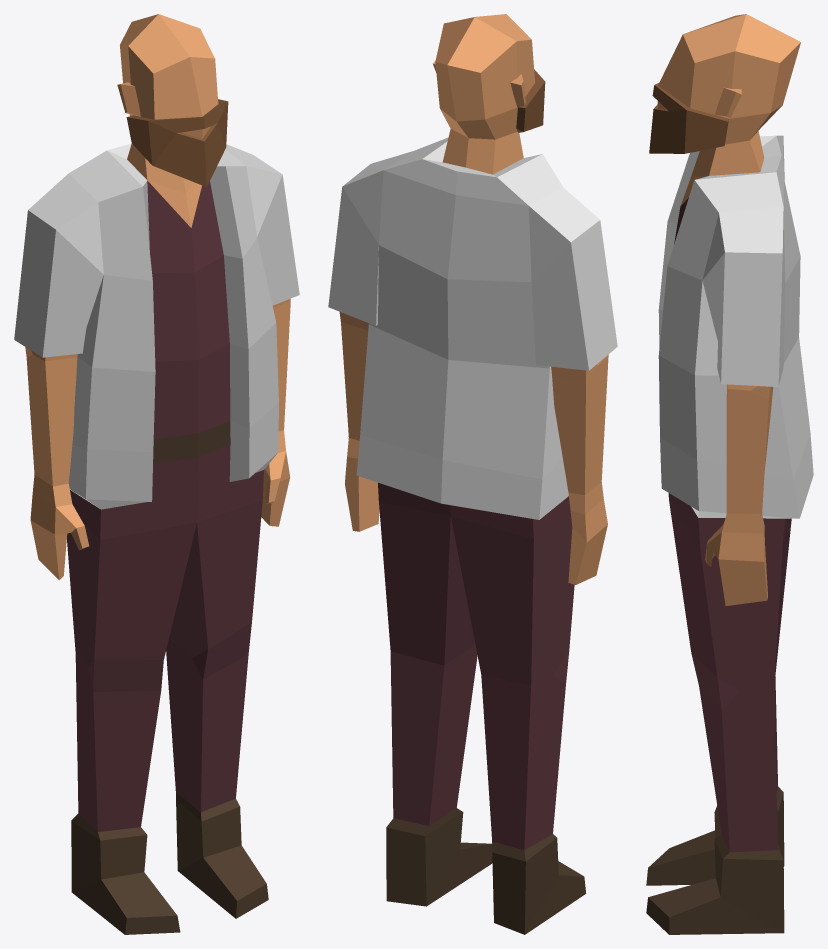
File: man-pedestrian-rival.fbx
3 renders of one model, left to right at view 1: azimuth 30°, elevation 25°; view 2: azimuth 150°, elevation 25°; view 3: azimuth 270°, elevation 25°, orthographic.
Visible parts, largest first — view 1: man-pedestrian-rival; view 2: man-pedestrian-rival; view 3: man-pedestrian-rival.
Boxes of the visible parts, x1,y1,x2,y2 form: man-pedestrian-rival: (14,14,299,934); man-pedestrian-rival: (328,14,617,934); man-pedestrian-rival: (646,14,813,934).
Bounding box in the file's own units: 0.557 × 1.81 × 0.3102.
